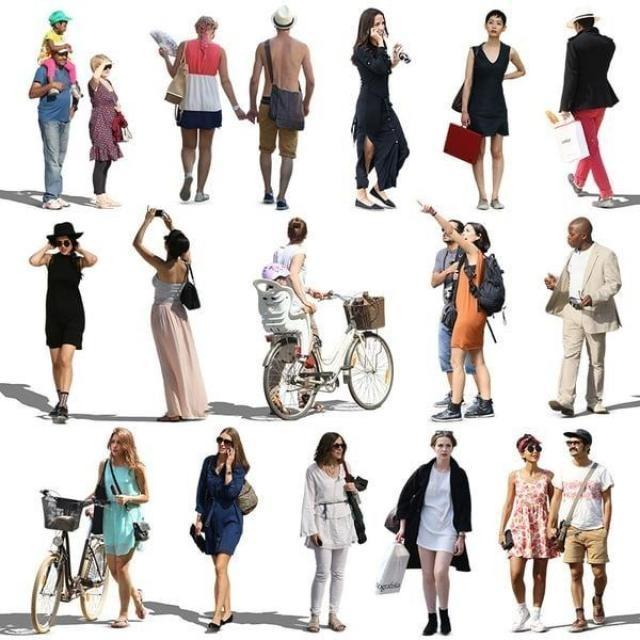person: (156, 15, 246, 203), (132, 206, 210, 421), (393, 430, 472, 636), (543, 216, 622, 416), (246, 4, 315, 209), (298, 430, 368, 632), (28, 222, 98, 422), (546, 428, 613, 631), (84, 426, 150, 628), (460, 8, 526, 210), (350, 8, 411, 209), (191, 427, 250, 632), (498, 433, 558, 633), (558, 13, 619, 208), (28, 37, 80, 209), (271, 216, 321, 367), (86, 53, 128, 208)
